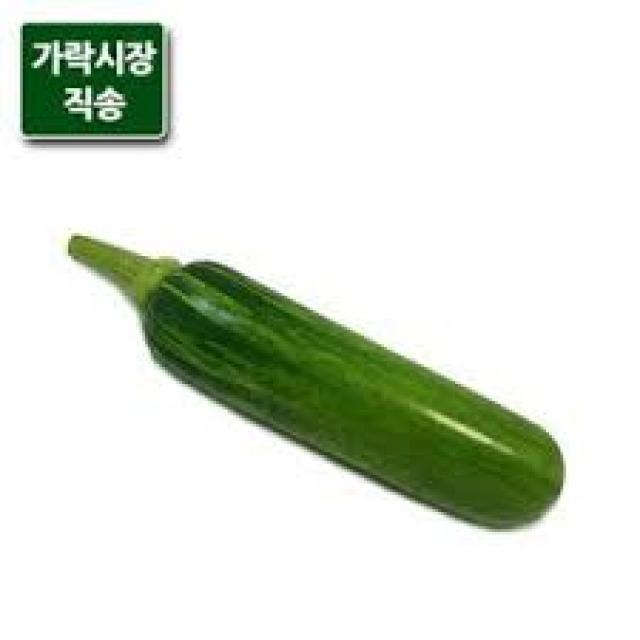Yogurt cup: (60, 216, 586, 572)
